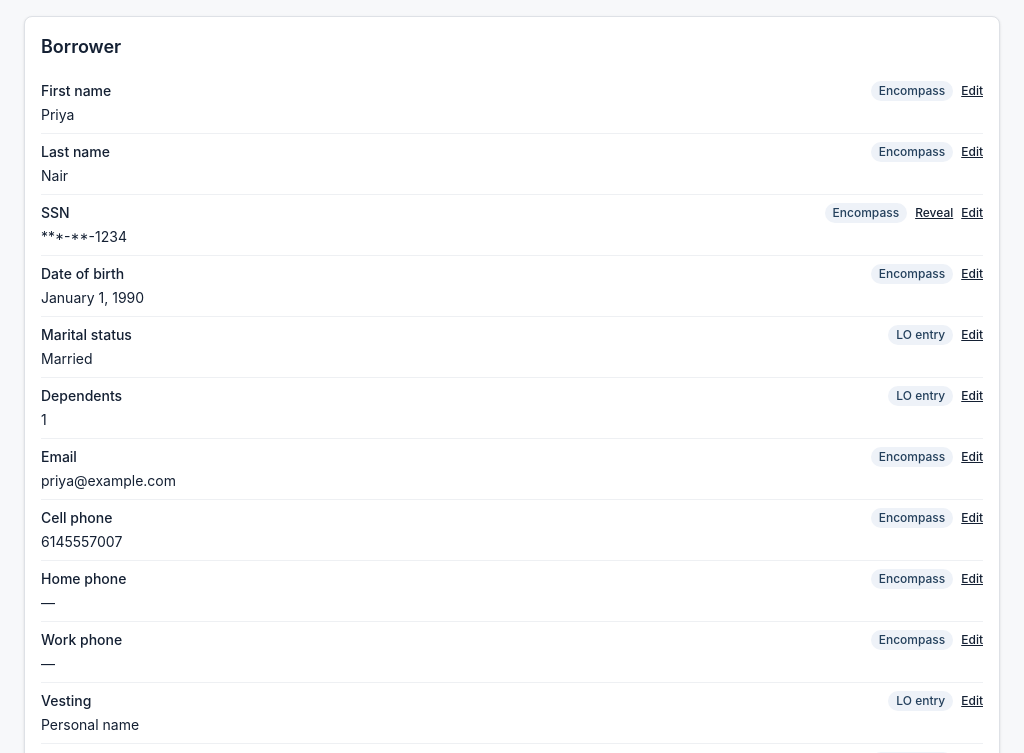
Test: BorrowersTab (docs/backlog/CQ-028-verification-tabs) › shows the returned message when a home_phone save 422s
Click the button "Edit" in the row of "Home phone": (972, 579) [961,571,983,587]
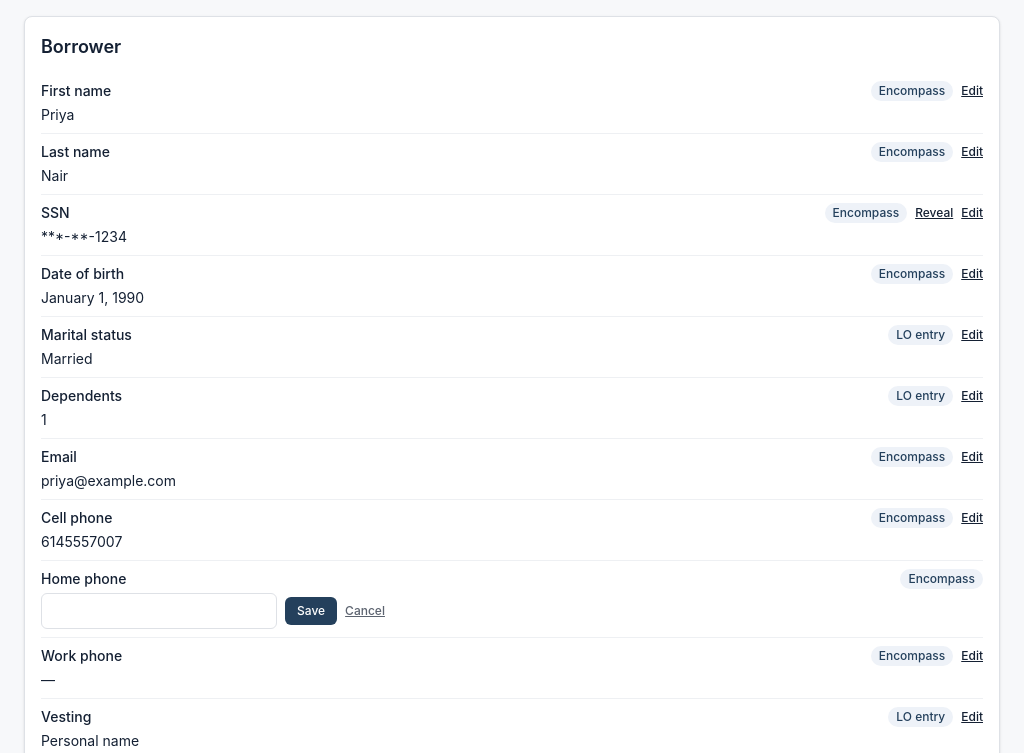
Click the button "Save": (311, 611) [285,597,337,625]
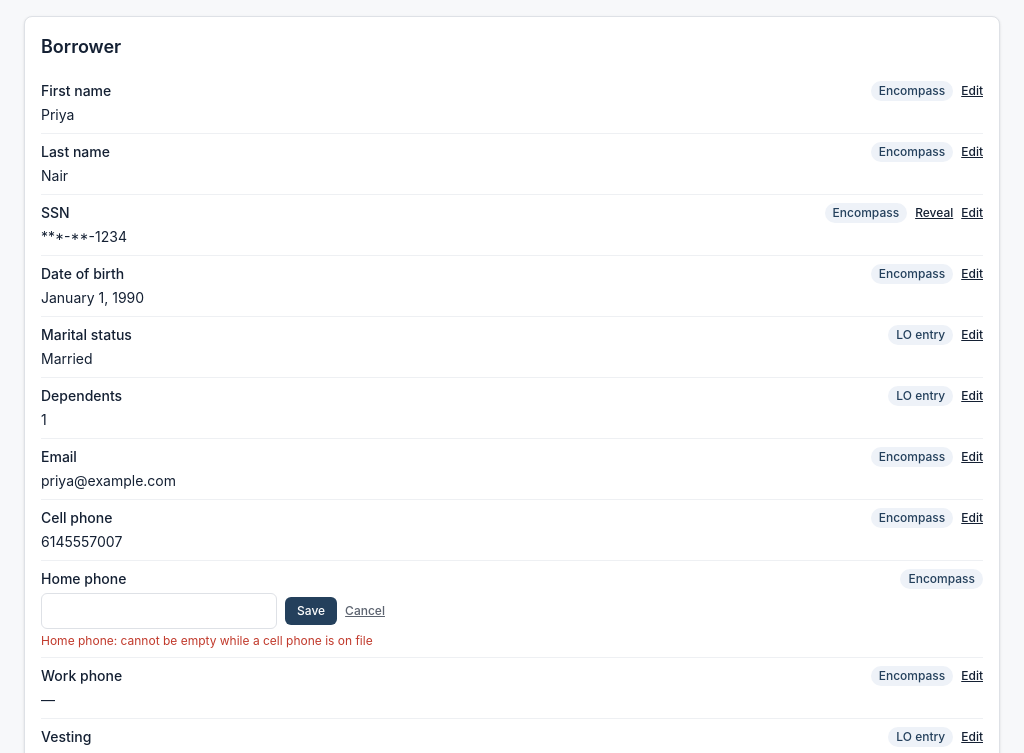
Now the text "Home phone: cannot be empty while a cell phone is on file" is shown, box [41,633,373,648]
